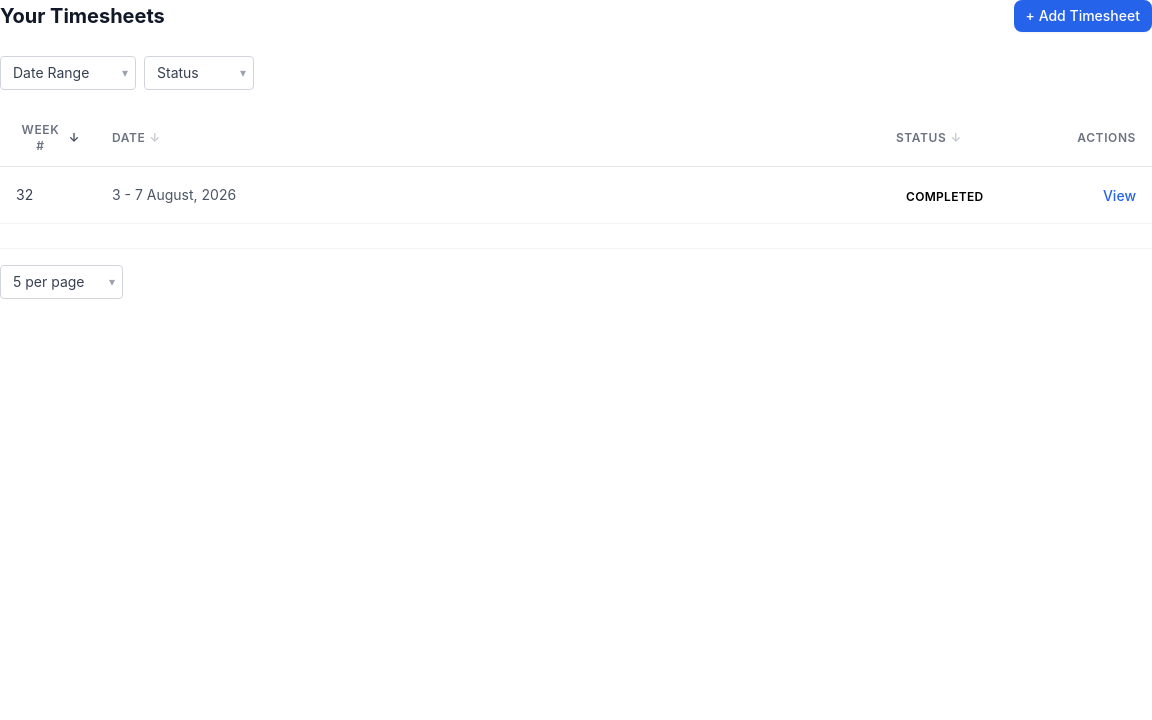
TimesheetContainer › opens modal when Add Timesheet button is clicked
This screenshot has width=1152, height=720.
Check: the text "32" is shown, box [0,166,96,224]
Click the button "+ Add Timesheet". click: (1083, 16)
box: [1014,0,1151,32]
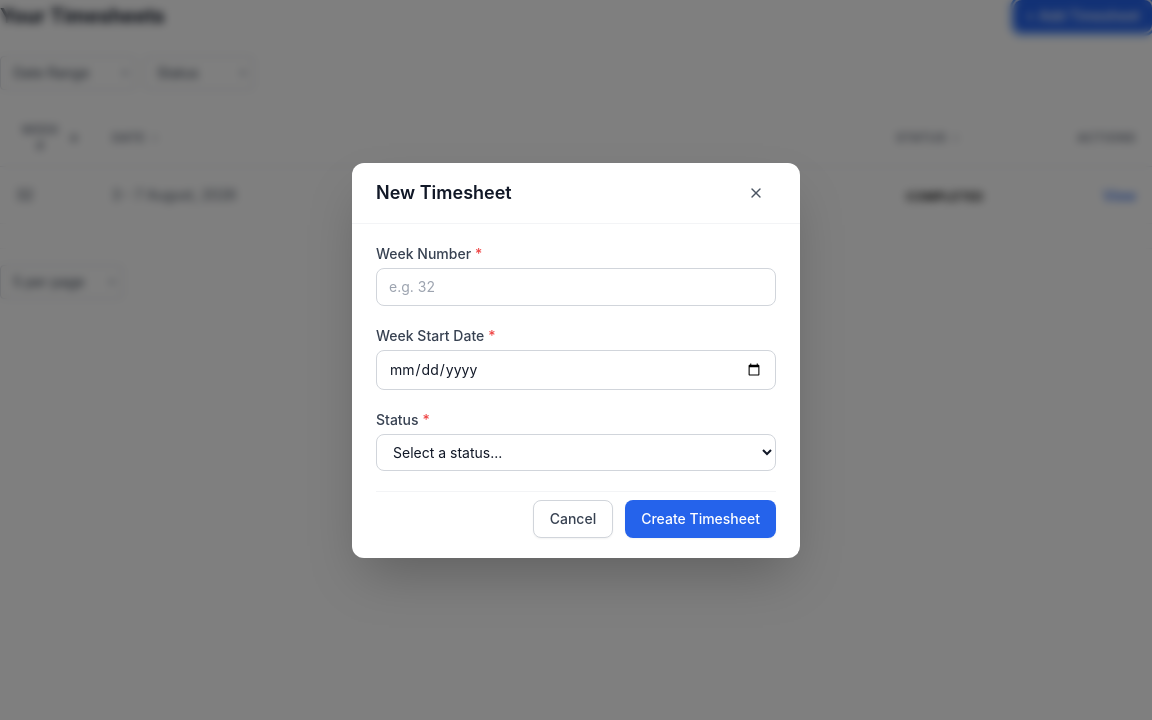
Check: the dialog is shown
Check: the heading "New Timesheet" is shown, box [376,178,512,206]
